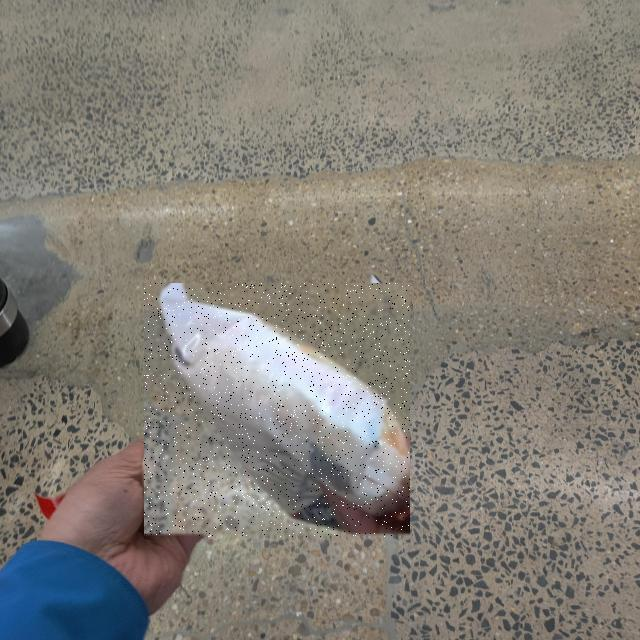Cheese: (144, 284, 410, 538)
